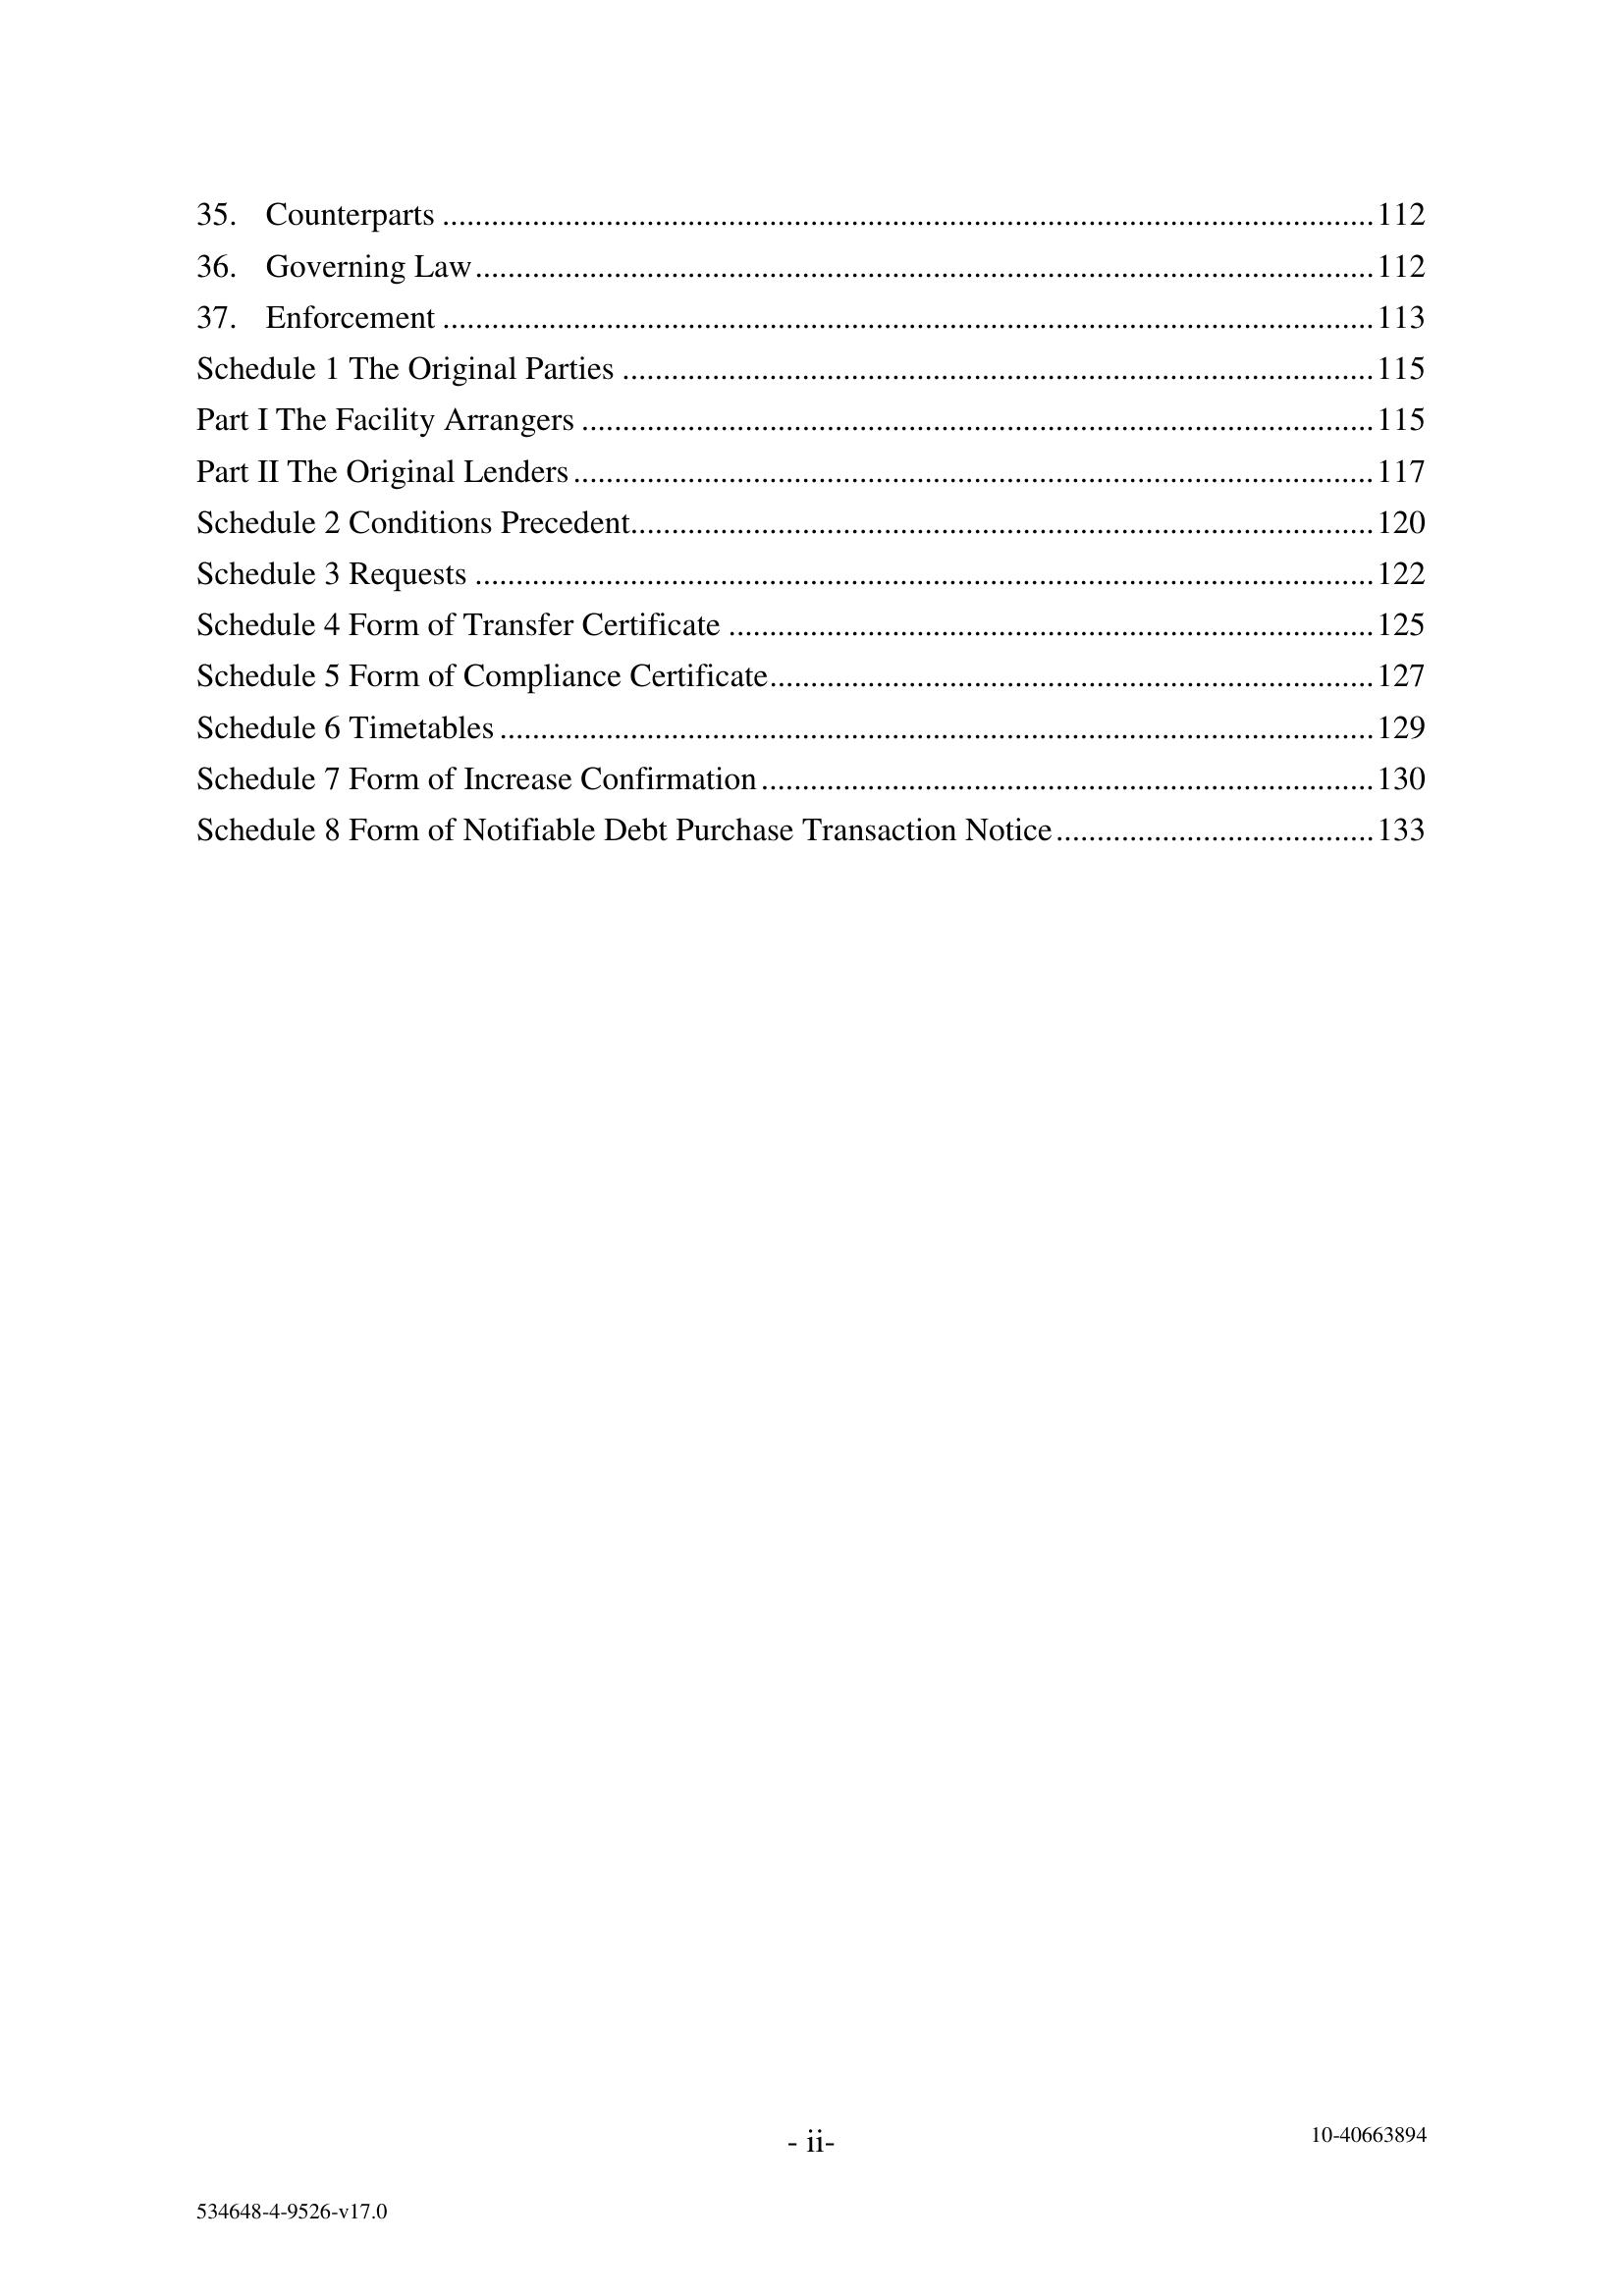pageno: (720, 2078, 889, 2228)
tag: (109, 2171, 469, 2266), (1212, 2085, 1519, 2177)
